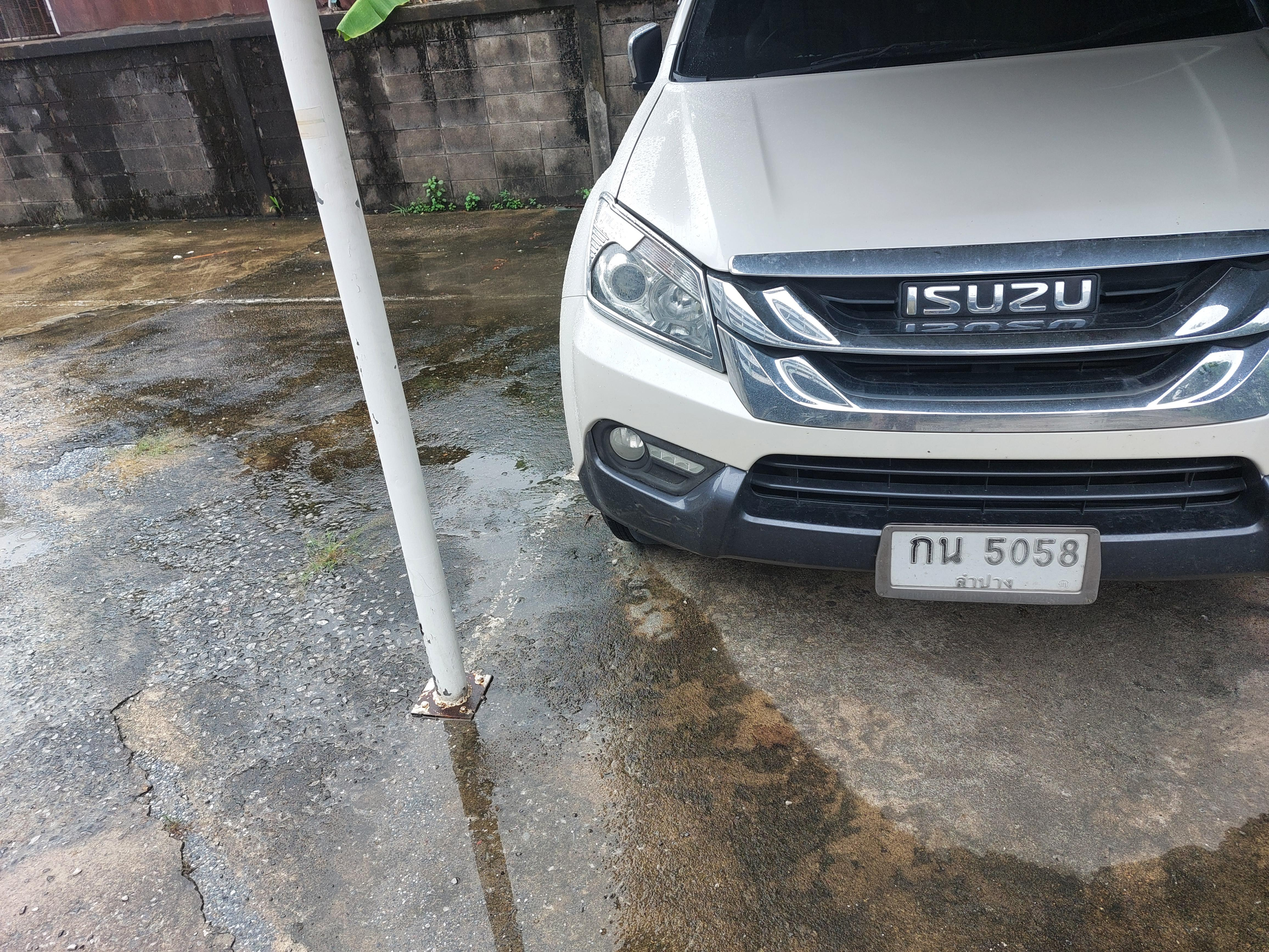license-plate: (872, 523, 1111, 607)
